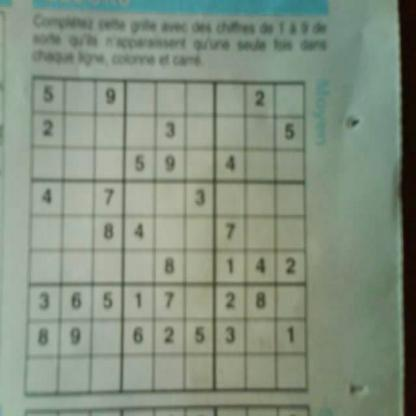sudoku: (21, 70, 314, 401)
